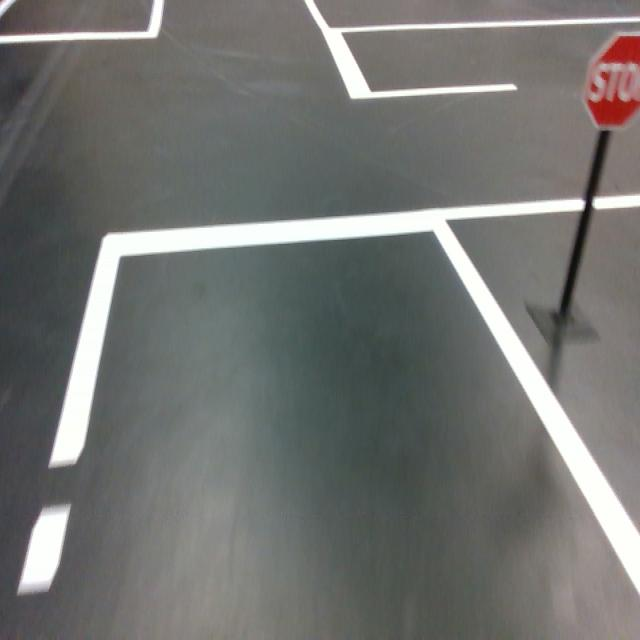stop-sign: (580, 29, 640, 131)
